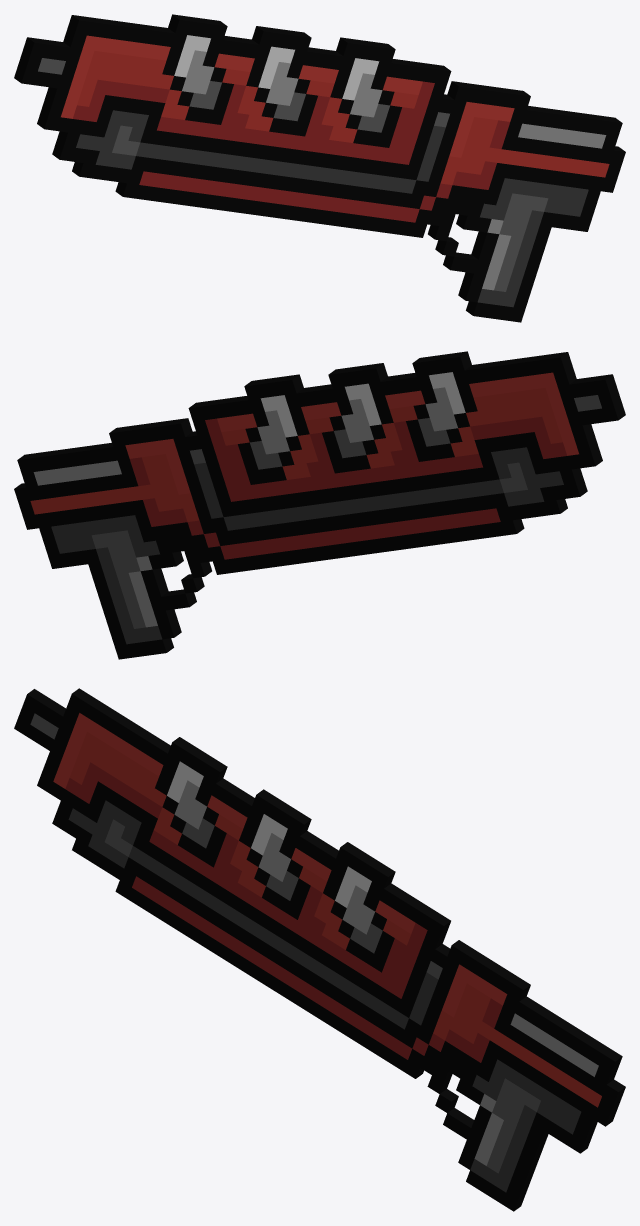
Rendered from Red Paintball Gun.glb.
3 renders of one model, top to bottom at view 1: azimuth 30°, elevation 25°; view 2: azimuth 150°, elevation 25°; view 3: azimuth 330°, elevation 25°, orthographic.
Visible parts, largest first — view 1: Untitled; view 2: Untitled; view 3: Untitled.
Boxes of the visible parts, <box> form: Untitled: <box>14,14,625,322</box>; Untitled: <box>14,351,625,659</box>; Untitled: <box>14,688,625,1211</box>.
Bounding box in the file's own units: 18.93 × 12.27 × 0.4.
1 material, 1 textured.
